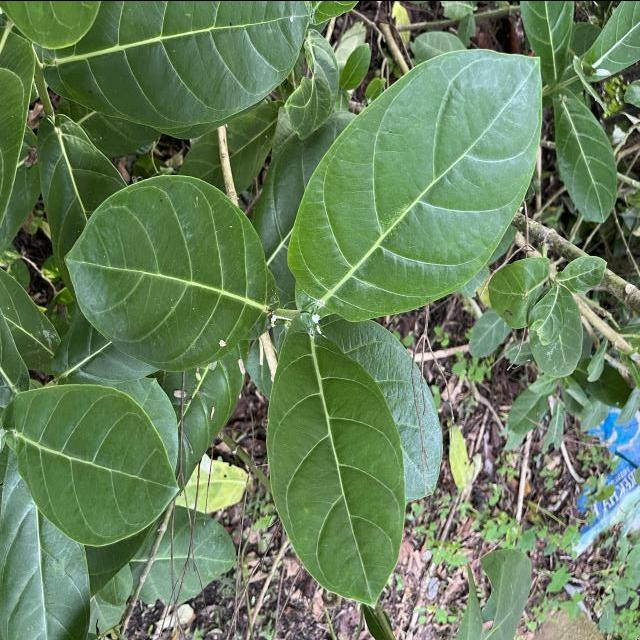Calotropis gigantea: (284, 43, 546, 325), (60, 170, 274, 372), (264, 318, 408, 610), (45, 0, 316, 130), (0, 382, 182, 547), (551, 89, 619, 224)
